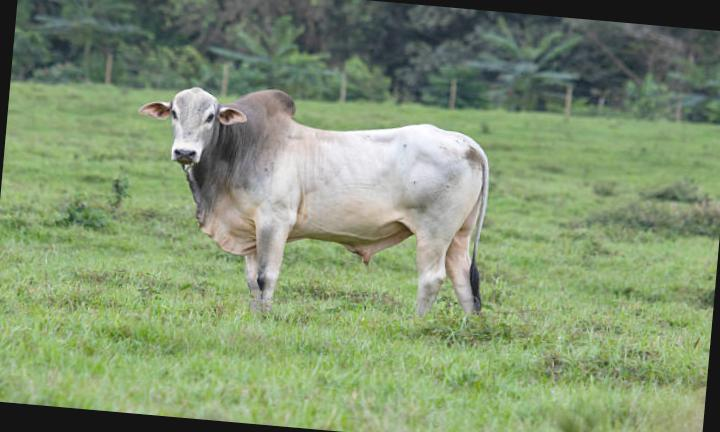Brahman: (139, 87, 487, 315)
